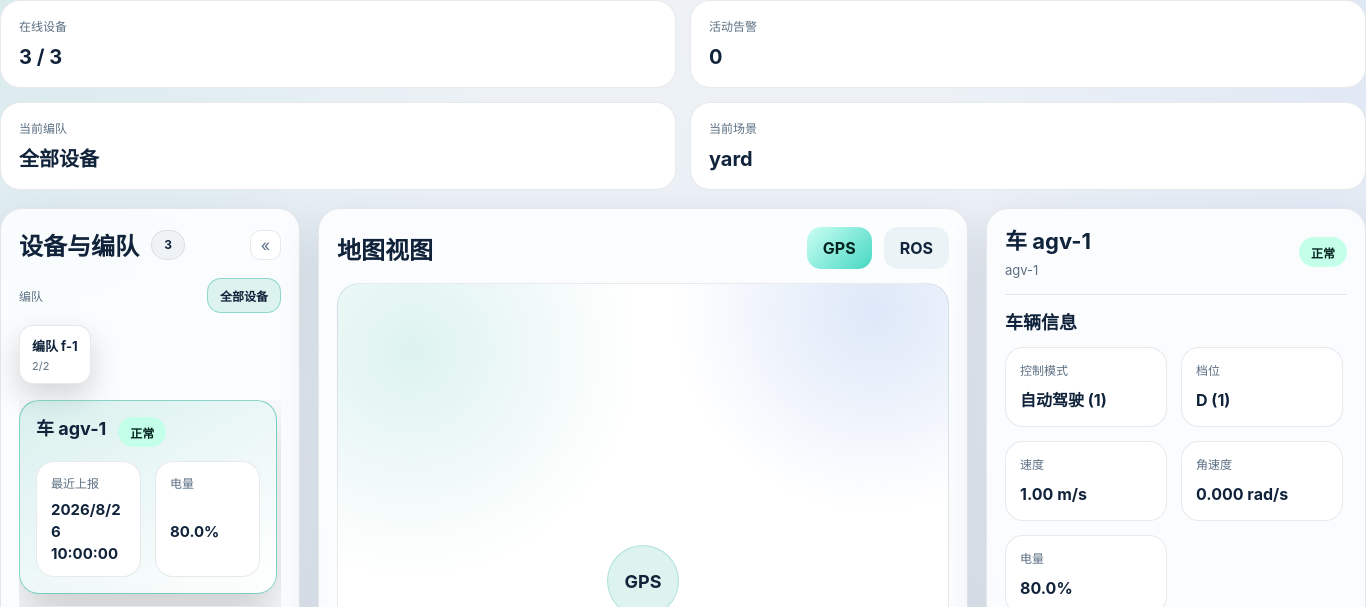
Test: DashboardView selection › keeps the formation filter when picking another device inside it
What coordinates should you click on to do the following:
click the button with class "formation-chip"
I would click on:
 (55, 354)
Its box is [19,325,91,384].
(page scrolled)
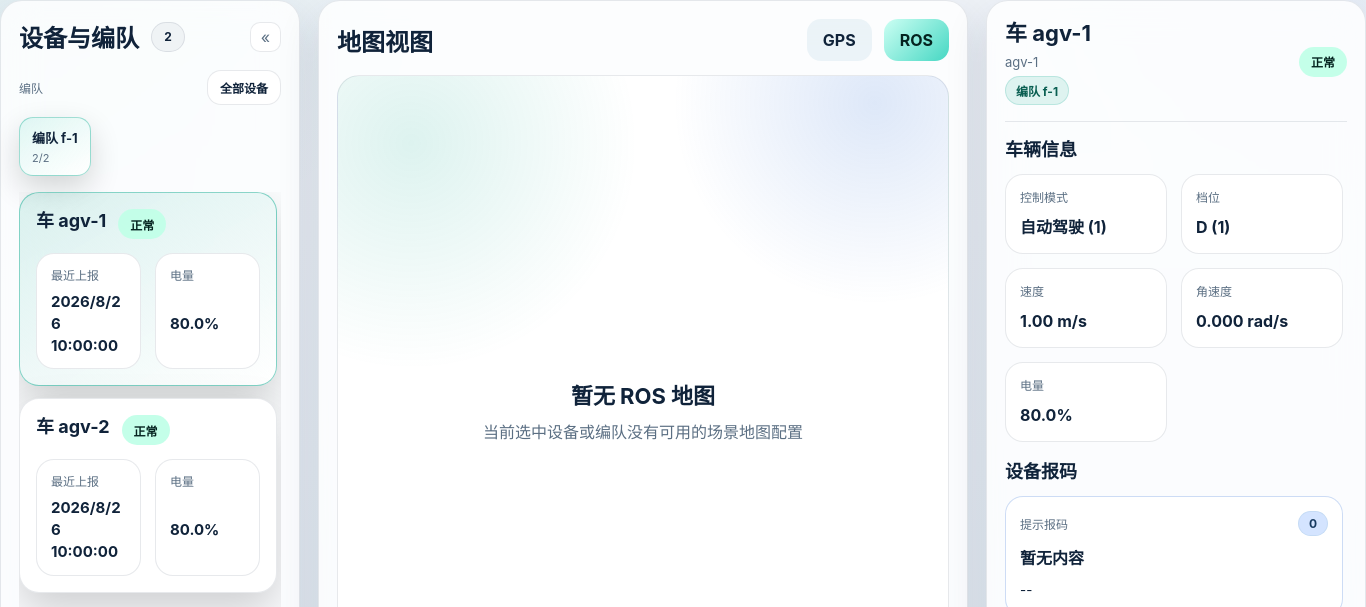
What coordinates should you click on to do the following:
click the button with class "device-item" that starts with "车 agv-2"
I would click on:
 (148, 495)
Its box is [19,398,277,593].
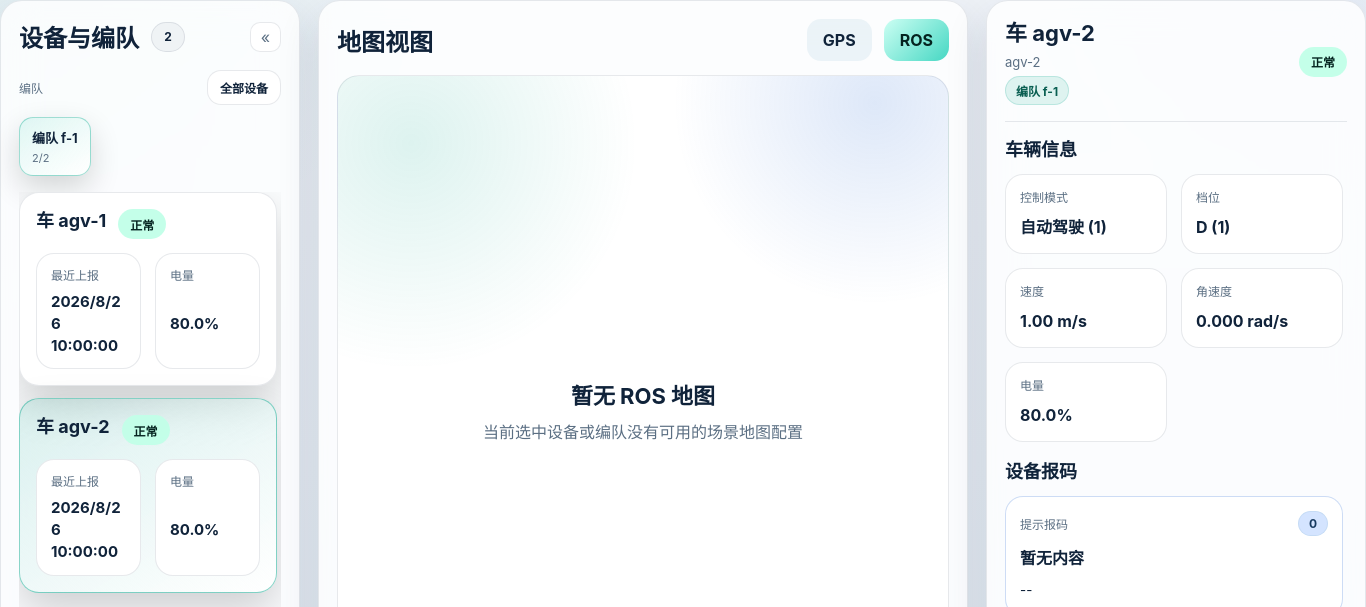
Now the text "agv-2" is shown, box [1005,54,1040,70]
